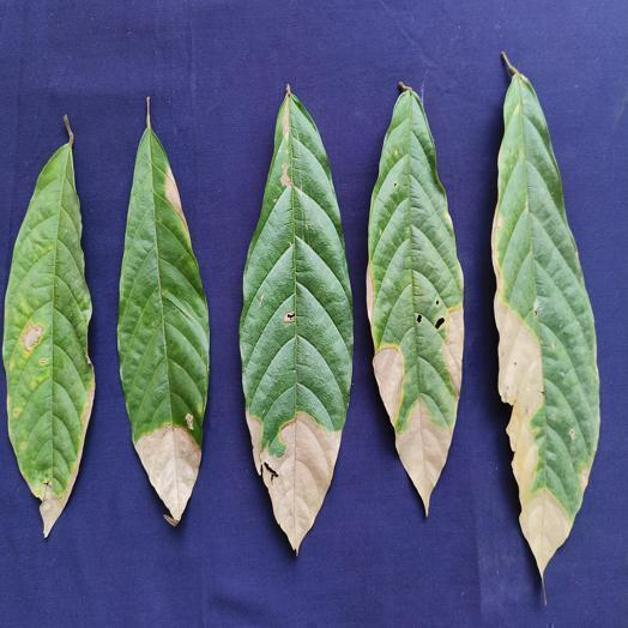Potassium: (491, 55, 599, 579), (239, 86, 353, 552), (367, 83, 463, 515), (117, 98, 209, 525), (2, 116, 94, 536)
